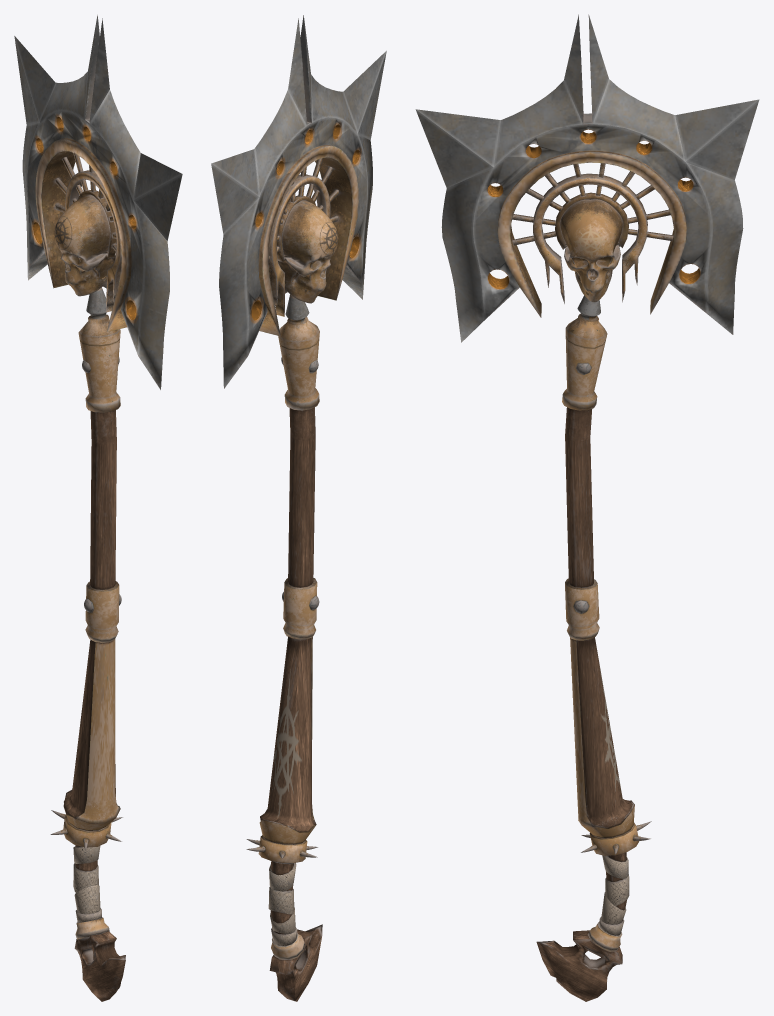
Rendered from Axe1.fbx.
3 views of the same model, side by side, from view 1: azimuth 30°, elevation 25°; view 2: azimuth 150°, elevation 25°; view 3: azimuth 270°, elevation 25° (orthographic).
Parts seen in each view (by area): view 1: Axe; view 2: Axe; view 3: Axe.
Part boxes in pixels (x1,y1,x2,y2): Axe: (14, 15, 182, 1001); Axe: (211, 15, 386, 1001); Axe: (415, 14, 759, 1001).
Bounding box in the file's own units: 0.3085 × 3.76 × 1.19.
